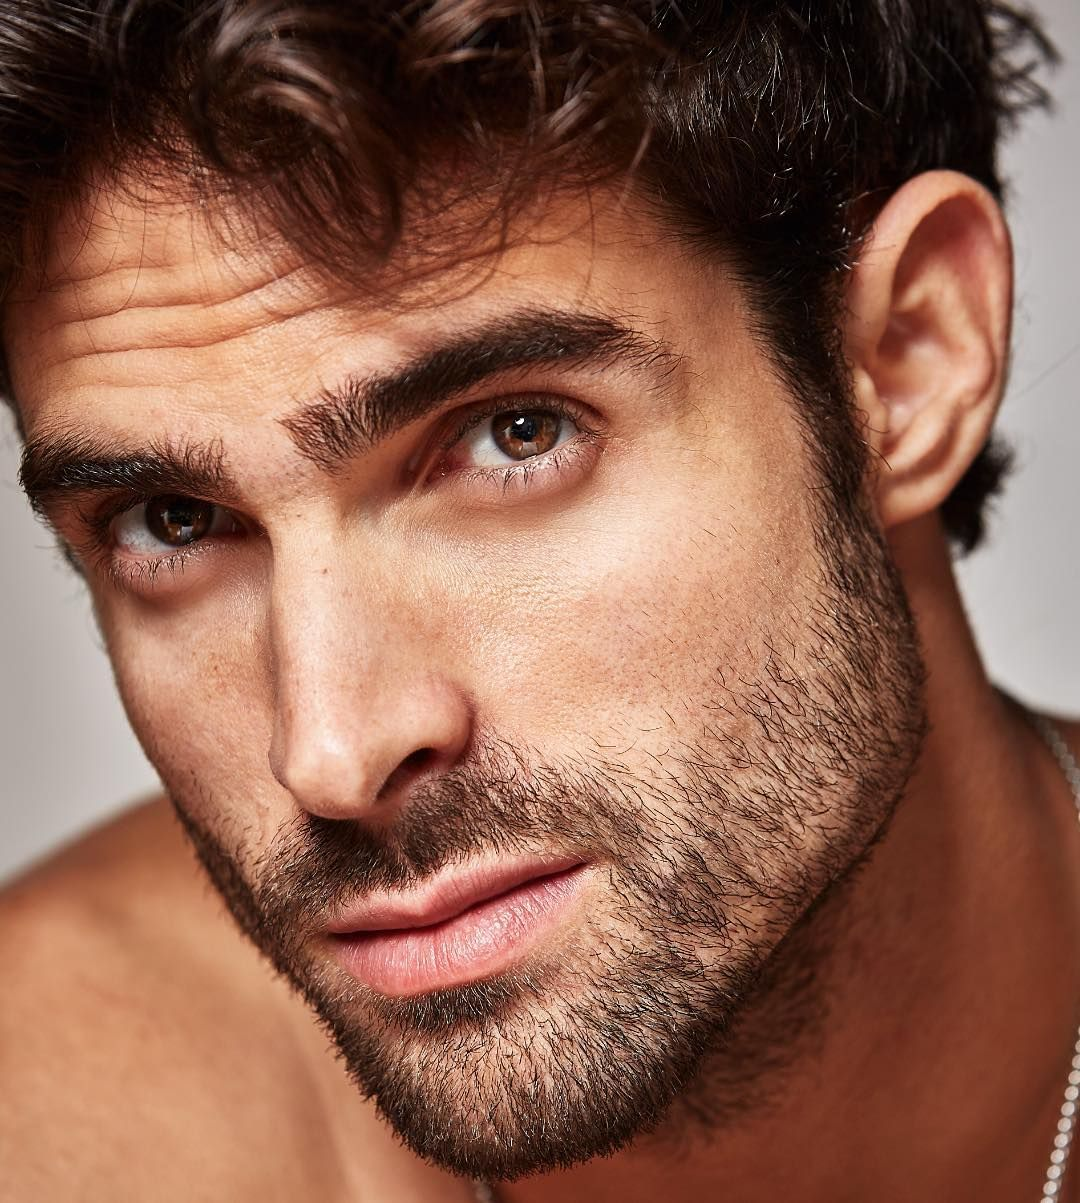no_mask: (9, 25, 1030, 1182)
